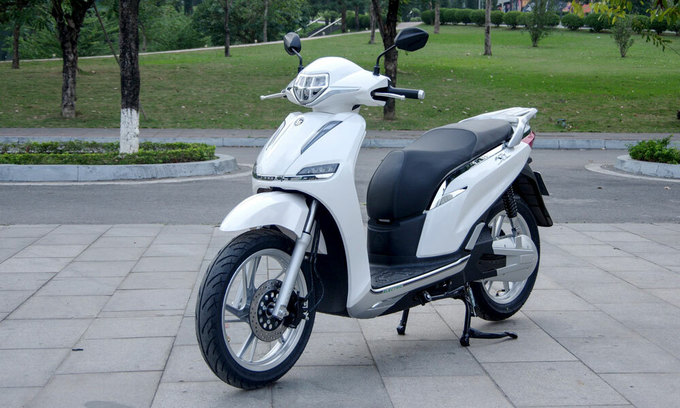motorbike: (196, 28, 556, 387)
